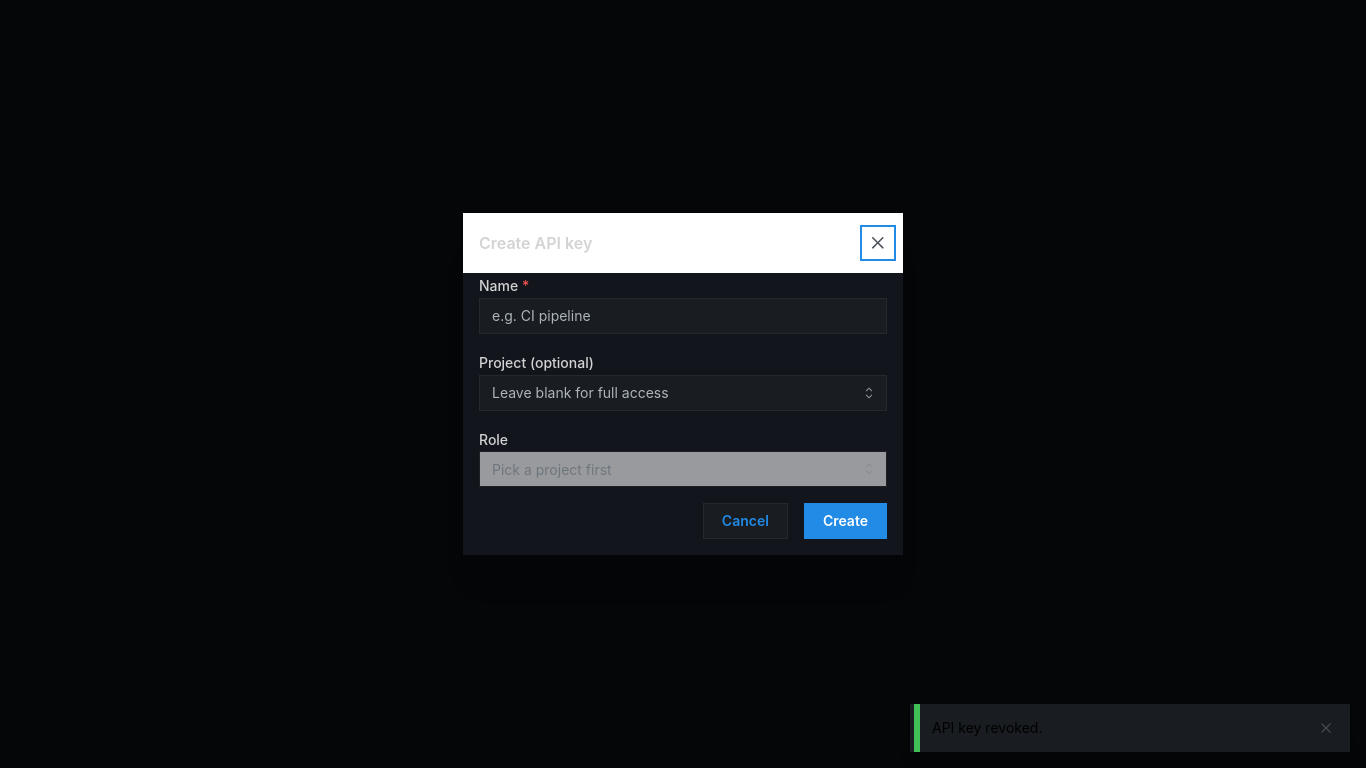
Test: CreateApiKeyModal validation › requires a non-empty name
Click the button "Create": [845, 521] box [804, 503, 887, 539]
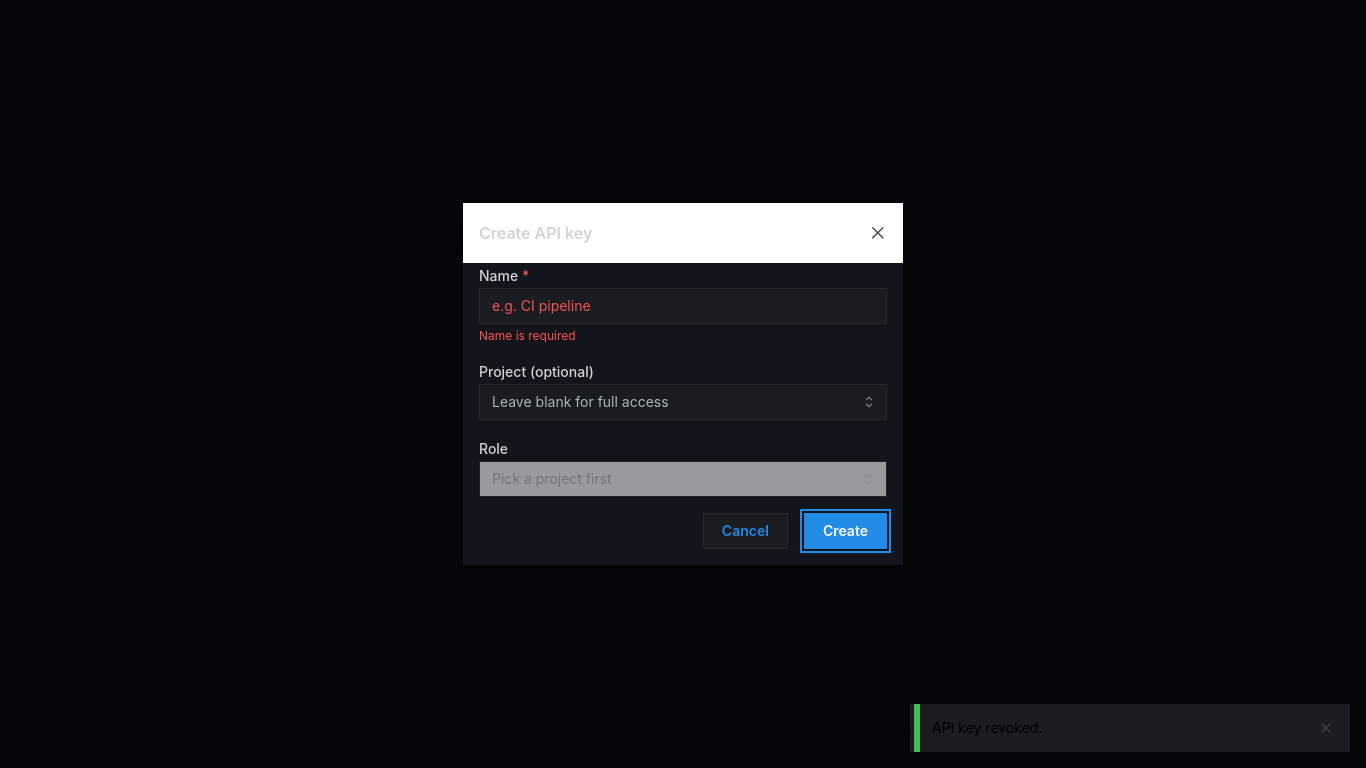
Now the text "Name is required" is shown, box [479, 328, 576, 343]
